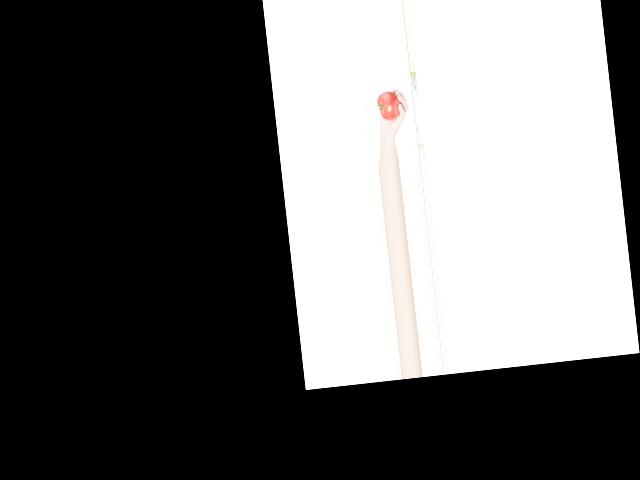tomato: (376, 90, 403, 122)
